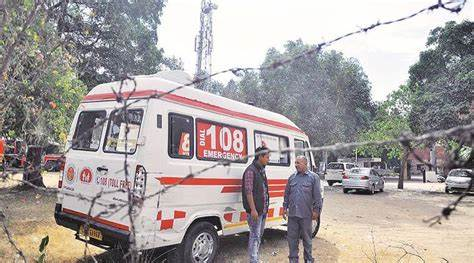ambulance: (58, 68, 325, 258)
